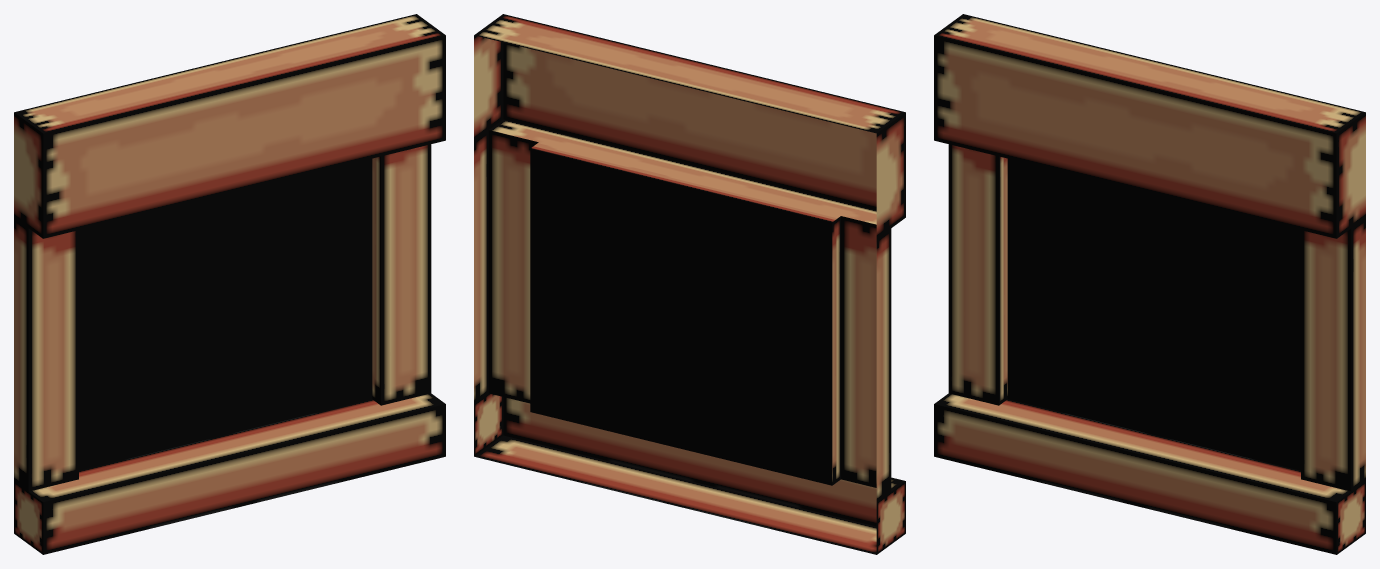
File: arch_window_woodBlank.FBX
3 views of the same model, side by side, from view 1: azimuth 30°, elevation 25°; view 2: azimuth 150°, elevation 25°; view 3: azimuth 330°, elevation 25° (orthographic).
Visible parts, largest first — view 1: arch_window_woodBlank; view 2: arch_window_woodBlank; view 3: arch_window_woodBlank.
Part boxes in pixels (x1=…): arch_window_woodBlank: x1=14, y1=14, x2=445, y2=554; arch_window_woodBlank: x1=474, y1=14, x2=905, y2=554; arch_window_woodBlank: x1=934, y1=14, x2=1365, y2=554.
Bounding box in the file's own units: 3 × 3 × 0.375.
1 material, 1 textured.
